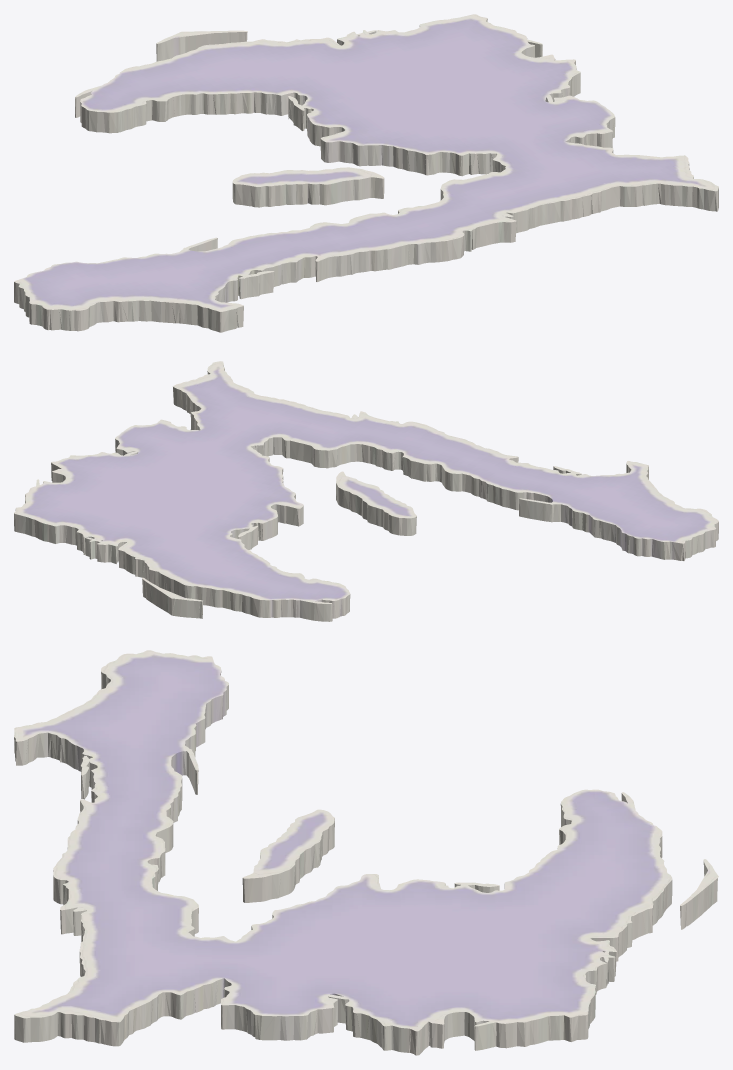
File: haiti.glb
3 views of the same model, one above another, from view 1: azimuth 30°, elevation 25°; view 2: azimuth 150°, elevation 25°; view 3: azimuth 270°, elevation 25° (orthographic). The views are drawn at different scales.
Parts seen in each view (by area): view 1: tripo_node_6f4f59ce-b4bb-4cd4-a4c1-94a5cffd2d1b; view 2: tripo_node_6f4f59ce-b4bb-4cd4-a4c1-94a5cffd2d1b; view 3: tripo_node_6f4f59ce-b4bb-4cd4-a4c1-94a5cffd2d1b.
Part boxes in pixels (x1,y1,x2,y2): tripo_node_6f4f59ce-b4bb-4cd4-a4c1-94a5cffd2d1b: [14, 14, 718, 332]; tripo_node_6f4f59ce-b4bb-4cd4-a4c1-94a5cffd2d1b: [14, 361, 718, 621]; tripo_node_6f4f59ce-b4bb-4cd4-a4c1-94a5cffd2d1b: [14, 650, 718, 1055].
Bounding box in the file's own units: 1 × 0.03 × 0.7818.
1 material, 1 textured.
